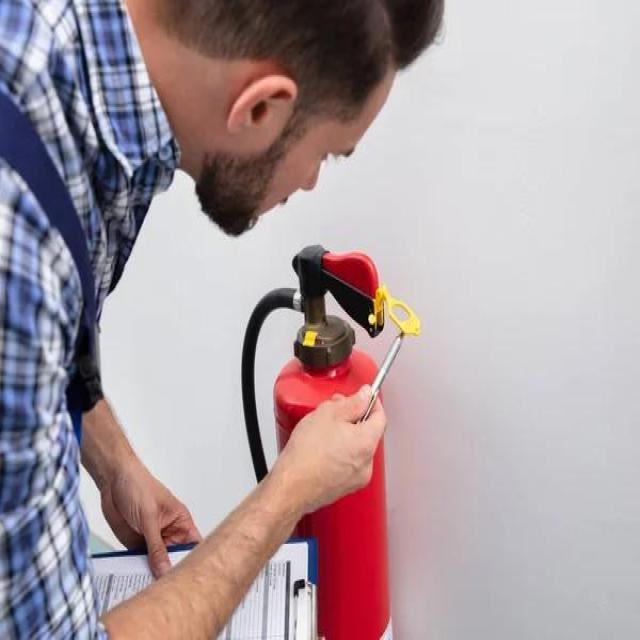fire_extinguisher: (237, 234, 421, 638)
